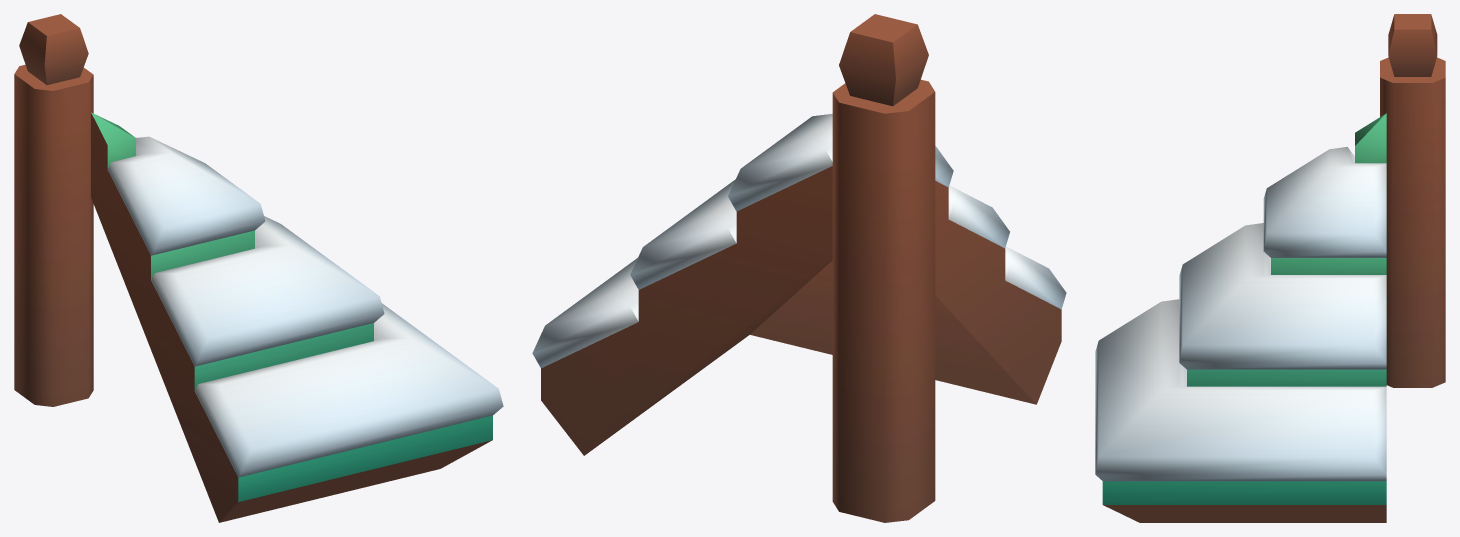
File: kenney-holiday-cabin-roof-snow-corner.glb
3 renders of one model, left to right at view 1: azimuth 30°, elevation 25°; view 2: azimuth 150°, elevation 25°; view 3: azimuth 270°, elevation 25°, orthographic. The views are drawn at different scales.
Parts seen in each view (by area): view 1: cabin-roof-snow-corner; view 2: cabin-roof-snow-corner; view 3: cabin-roof-snow-corner.
Part boxes in pixels (<box>): cabin-roof-snow-corner: <box>14,14,503,522</box>; cabin-roof-snow-corner: <box>532,14,1066,522</box>; cabin-roof-snow-corner: <box>1095,14,1445,522</box>.
Bounding box in the file's own units: 1.34 × 1.62 × 1.34.
Materials: 1 (1 with a texture image).
